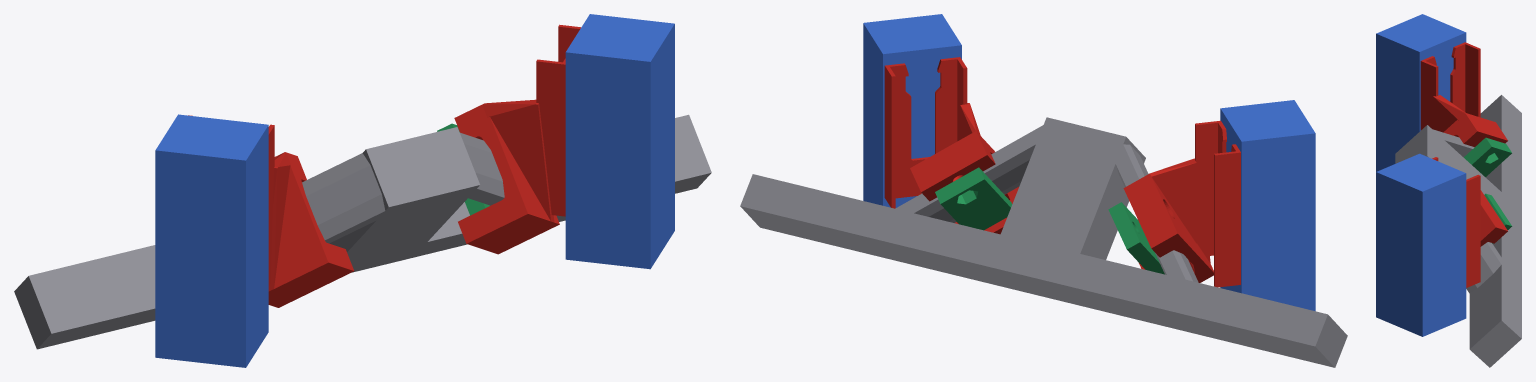
File: assembly_m6.obj
3 views of the same model, side by side, from view 1: azimuth 30°, elevation 25°; view 2: azimuth 150°, elevation 25°; view 3: azimuth 270°, elevation 25° (orthographic). The views are drawn at different scales.
Visible parts, largest first — view 1: hanger_schematic, left_light_placeholder, right_light_placeholder, right_saddle, left_saddle; view 2: hanger_schematic, left_light_placeholder, left_saddle, right_light_placeholder, right_saddle, right_keeper, left_keeper; view 3: right_light_placeholder, hanger_schematic, left_light_placeholder, left_saddle, right_saddle, left_keeper, right_keeper.
Part boxes in pixels (x1,y1,x2,y2): hanger_schematic: [14, 114, 711, 349]; left_light_placeholder: [155, 114, 268, 367]; right_light_placeholder: [565, 14, 674, 269]; right_saddle: [454, 24, 580, 254]; left_saddle: [188, 115, 353, 307]; hanger_schematic: [740, 117, 1347, 367]; left_light_placeholder: [1220, 100, 1315, 311]; left_saddle: [1123, 120, 1240, 287]; right_light_placeholder: [863, 14, 961, 207]; right_saddle: [884, 57, 1018, 234]; right_keeper: [935, 167, 1012, 230]; left_keeper: [1108, 202, 1164, 274]; right_light_placeholder: [1376, 153, 1466, 336]; hanger_schematic: [1395, 95, 1521, 367]; left_light_placeholder: [1376, 14, 1466, 171]; left_saddle: [1420, 42, 1507, 147]; right_saddle: [1432, 157, 1507, 287]; left_keeper: [1464, 137, 1511, 177]; right_keeper: [1484, 193, 1512, 243].
Bounding box in the file's own units: 260 × 81.67 × 70.91.
